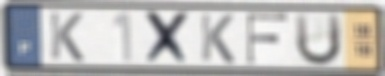1: (112, 11, 134, 64)
F: (245, 12, 291, 66)
K: (198, 12, 237, 66), (47, 10, 86, 64)
U: (292, 11, 344, 68)
X: (142, 9, 194, 67)
